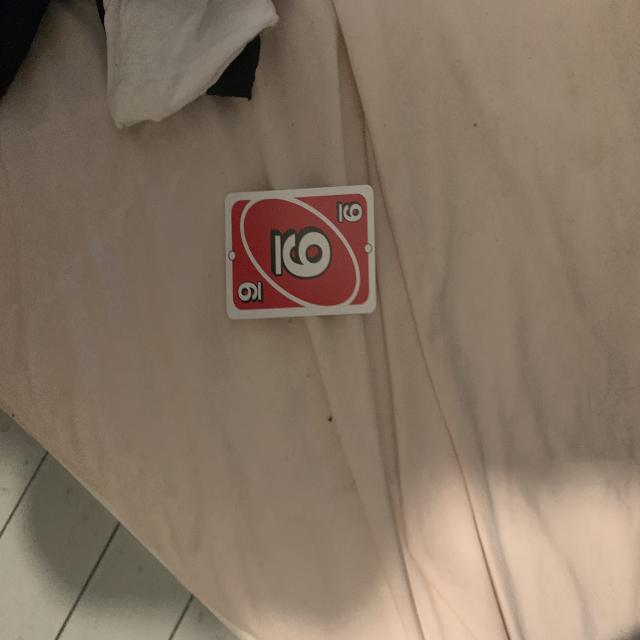lred-9: (330, 194, 368, 227)
